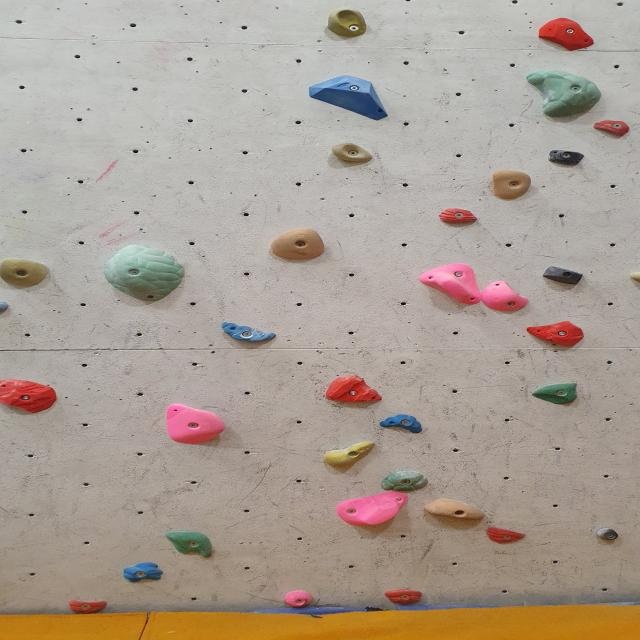Crimp: (532, 15, 599, 54), (318, 373, 390, 406), (0, 380, 62, 412), (524, 320, 586, 350), (484, 524, 534, 546), (221, 324, 277, 342), (383, 472, 433, 492), (381, 414, 428, 432), (592, 119, 630, 140), (439, 208, 481, 225), (382, 588, 424, 604), (122, 564, 162, 580), (284, 590, 314, 606), (68, 600, 106, 612)
Jug: (163, 406, 226, 444), (274, 229, 332, 262), (482, 282, 532, 314), (327, 8, 371, 39), (488, 169, 532, 200), (0, 259, 46, 287), (330, 142, 376, 164)
Pinch: (424, 498, 486, 524), (322, 442, 379, 468), (540, 262, 584, 287), (546, 148, 586, 168), (595, 527, 620, 540)
Sloper: (304, 72, 392, 125), (102, 248, 182, 302), (522, 69, 606, 120), (422, 262, 484, 308), (337, 490, 415, 523), (529, 382, 585, 406), (166, 530, 213, 556)
